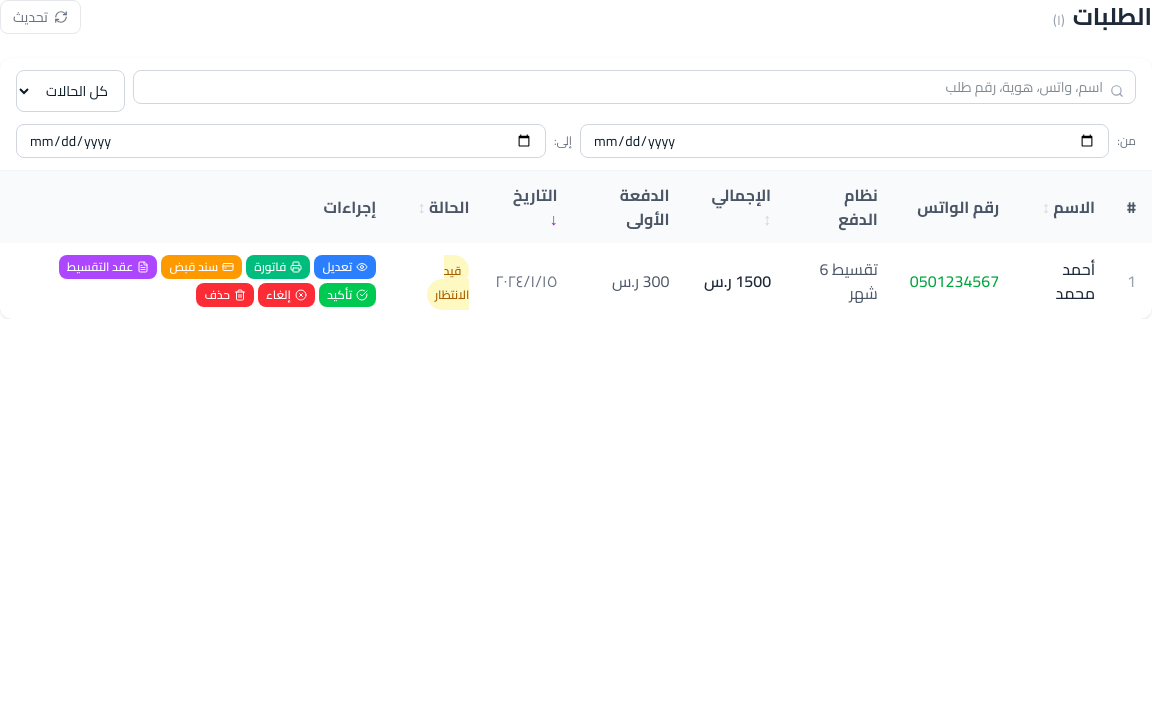
Test: OrdersPage — modal الحذف › زر نعم احذف يستدعي DELETE ويزيل الطلب
Expected: the text "أحمد محمد" is shown, [1015,243,1111,319]
Step 1. Click the button "حذف" → (225, 295), box [196,283,254,307]
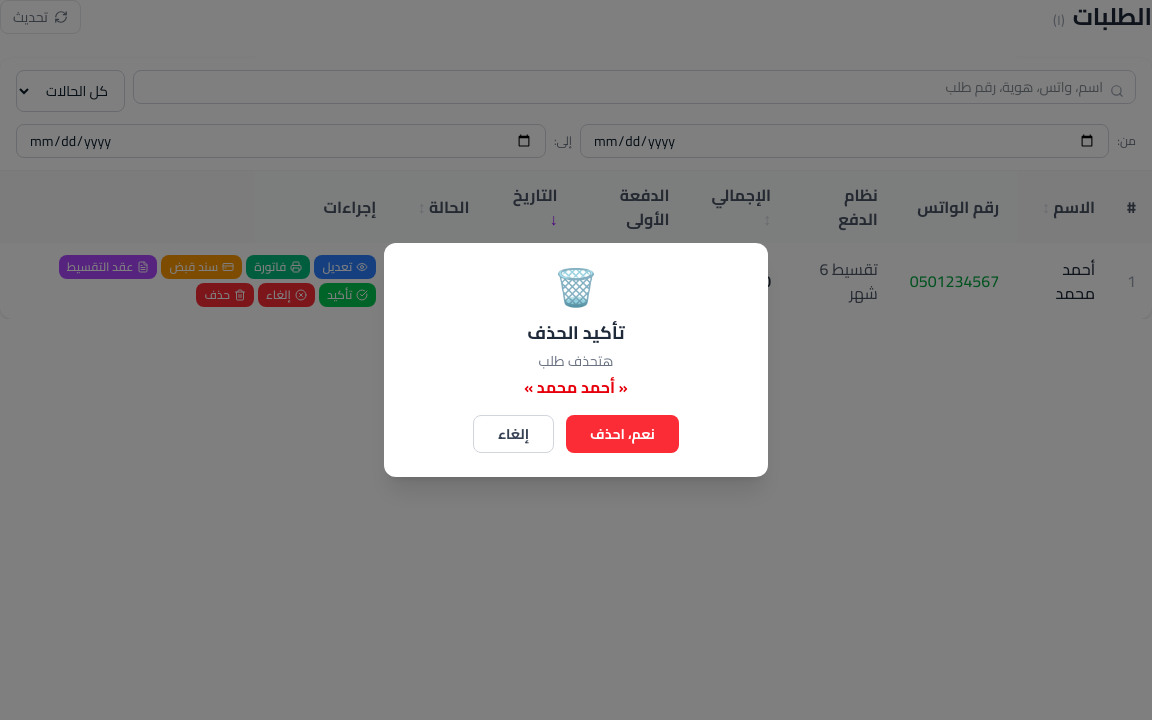
Step 2. Click the button "نعم، احذف" → (622, 434), box [566,415,679,453]
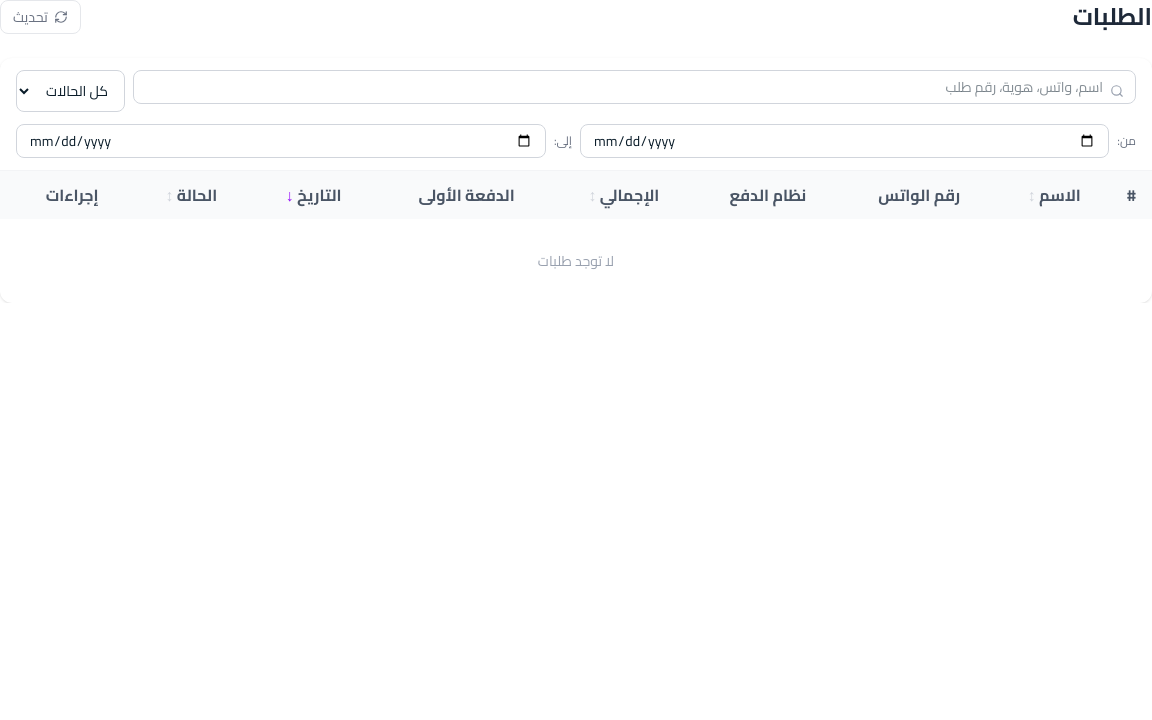
Expected: the text "أحمد محمد" is gone
